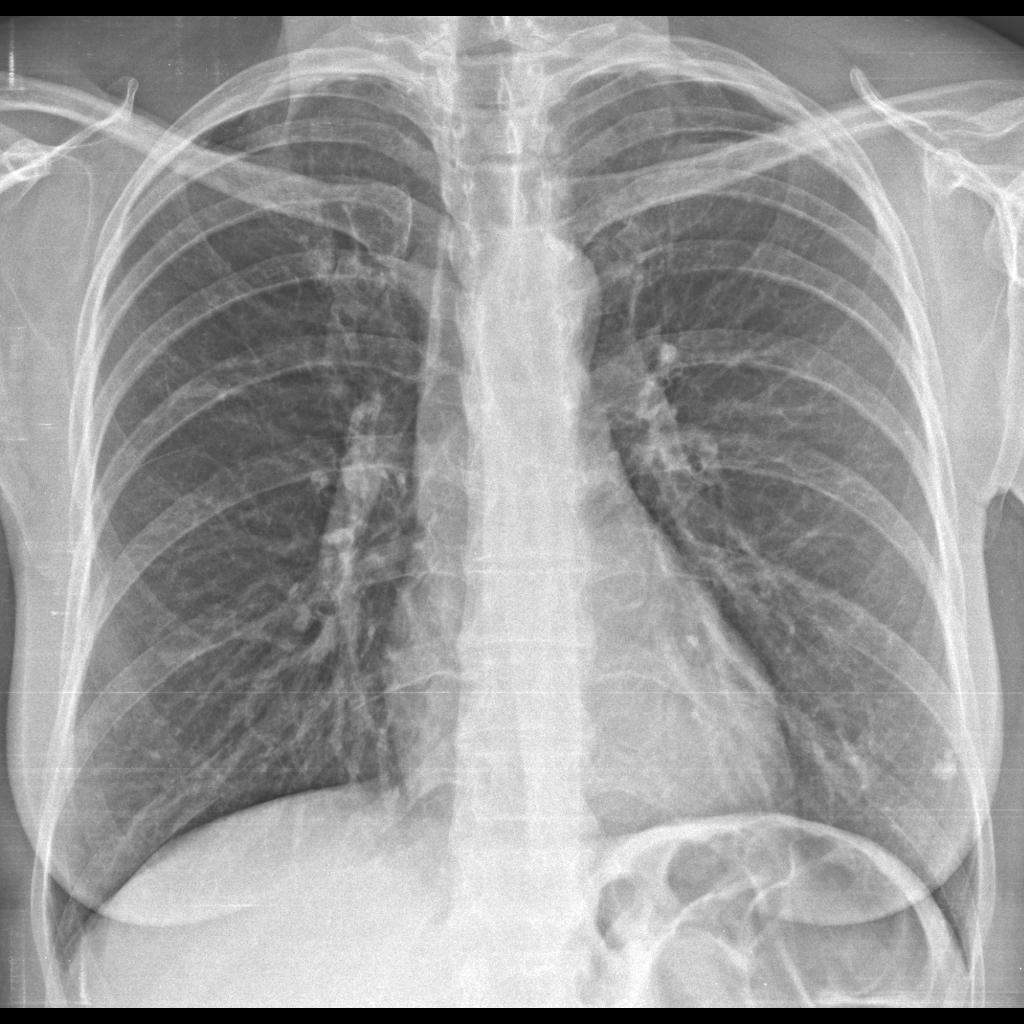Nodule: (928, 745, 963, 790)
